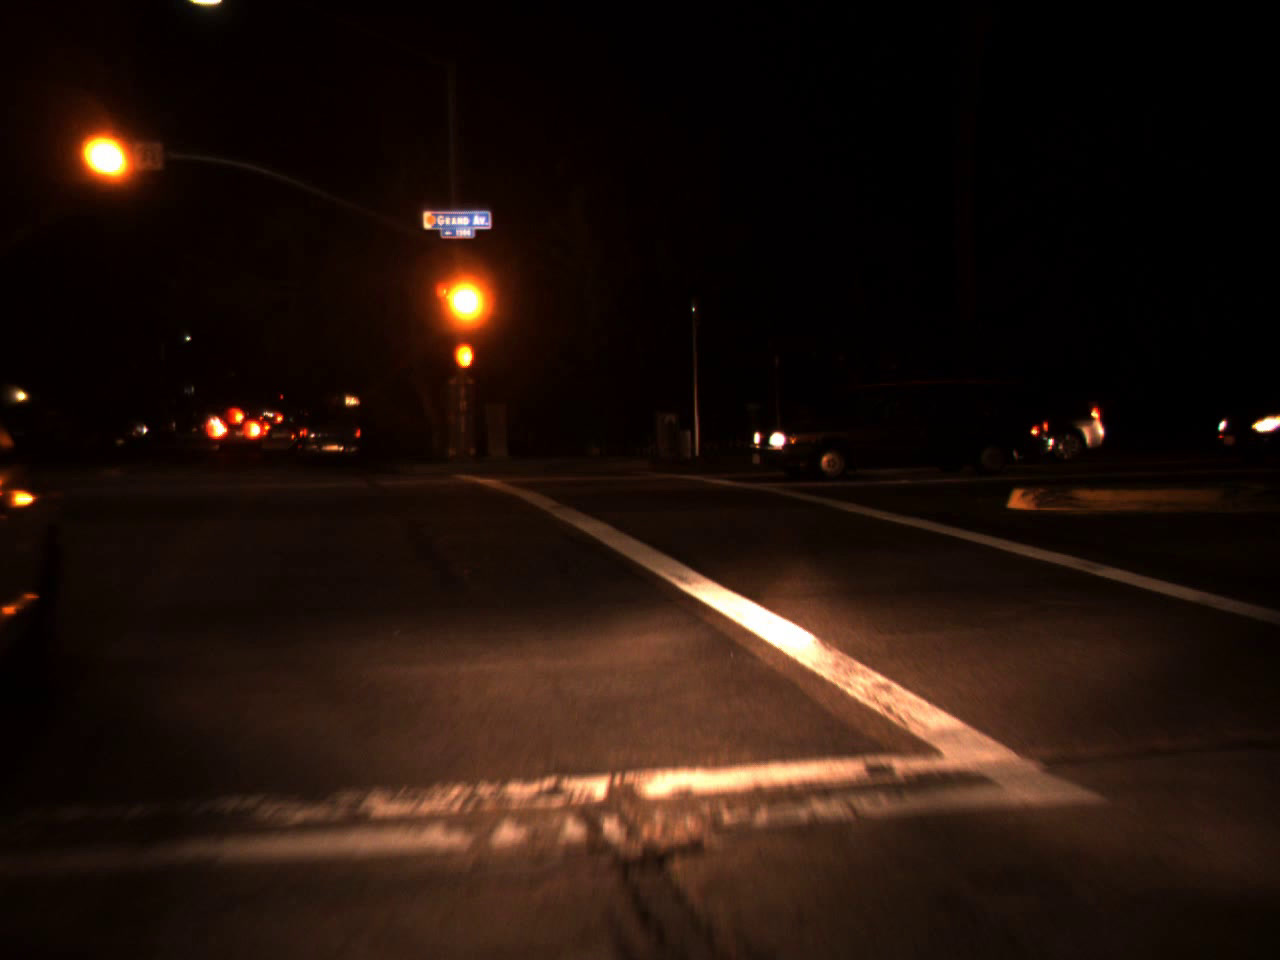warning: (447, 266, 482, 331), (86, 128, 125, 183)
